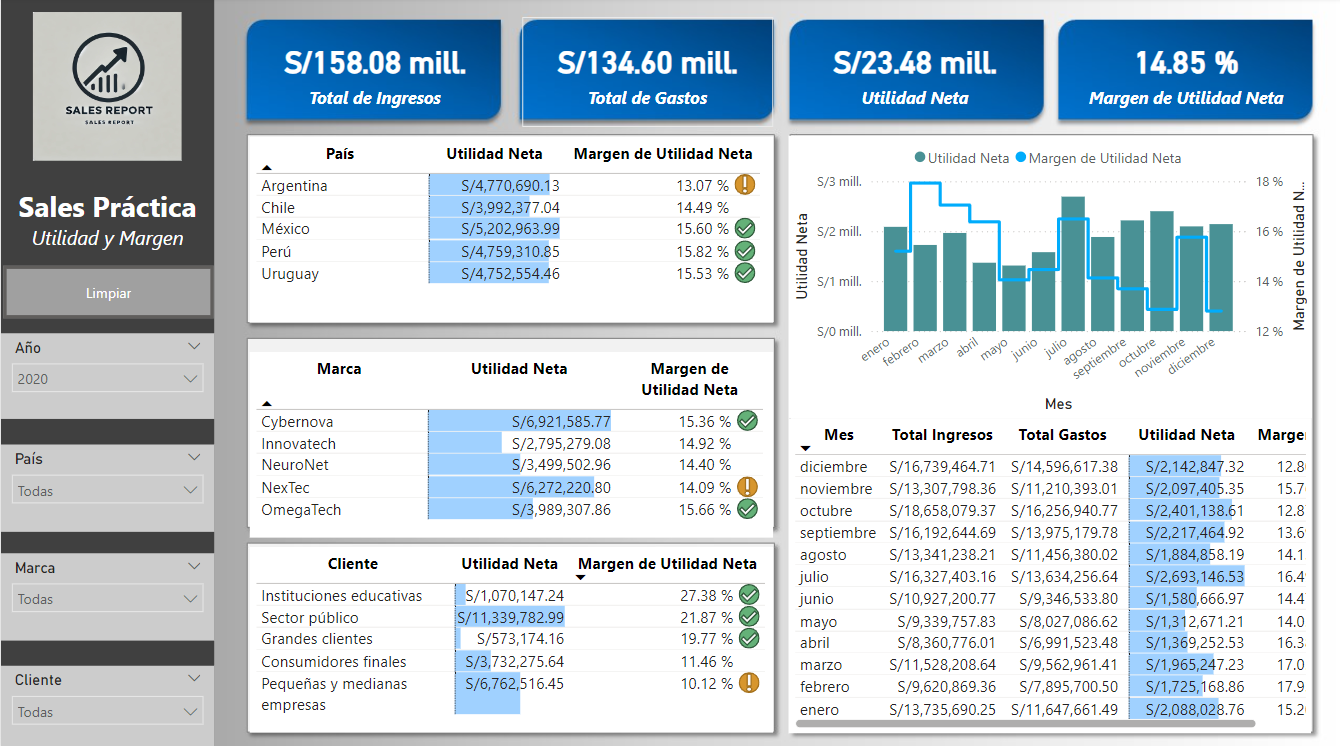

This screenshot's page, from the dashboard's own definition file:
{"tool":"powerbi","page":{"name":"Página 1","canvas":[1280,720],"ordinal":0},"visuals":[{"type":"card","fields":{"Values":["_Medidas.Total de Ingresos"]},"box":[237.4,19.2,238.8,104.3],"z":0},{"type":"card","fields":{"Values":["_Medidas.Total de Gastos"]},"box":[496.7,19.2,238.8,104.3],"z":1000},{"type":"card","fields":{"Values":["_Medidas.Total de Beneficio"]},"box":[750.6,19.2,238.8,104.3],"z":2000},{"type":"card","fields":{"Values":["_Medidas.Margen de utilidad neta"]},"box":[1010,19.2,238.8,104.3],"z":3000},{"type":"tableEx","fields":{"Values":["Consolidado.DimPais.Pais","_Medidas.Utilidad Neta","_Medidas.Margen de Utilidad Neta"]},"box":[237.4,133.1,498.1,177],"z":4000},{"type":"tableEx","fields":{"Values":["Consolidado.DimMarca.Marca","_Medidas.Utilidad Neta","_Medidas.Margen de Utilidad Neta"]},"box":[237.4,337.6,498.1,177],"z":5000},{"type":"tableEx","fields":{"Values":["Consolidado.Cliente","_Medidas.Utilidad Neta","_Medidas.Margen de Utilidad Neta"]},"box":[237.4,524.2,498.1,177],"z":6000},{"type":"lineClusteredColumnComboChart","fields":{"Y":["_Medidas.Utilidad Neta"],"Category":["Consolidado.Fecha.Variación.Jerarquía de fechas.Mes"],"Y2":["_Medidas.Margen de Utilidad Neta"]},"box":[750,132.5,498.8,268.8],"z":7000},{"type":"tableEx","fields":{"Values":["Consolidado.Fecha.Variación.Jerarquía de fechas.Mes","_Medidas.Total de Ingresos","_Medidas.Total de Gastos","_Medidas.Utilidad Neta","_Medidas.Margen de Utilidad Neta"]},"box":[750,401.2,497.5,300],"z":8000},{"type":"image","box":[0,10,202.9,151.4],"z":9000},{"type":"textbox","box":[0,175.7,202.9,80],"z":10000},{"type":"slicer","fields":{"Values":["Consolidado.Fecha.Variación.Jerarquía de fechas.Año"]},"box":[0,320,202.9,81.4],"z":10001},{"type":"slicer","fields":{"Values":["Consolidado.Cliente"]},"box":[0,637.1,202.9,82.9],"z":10002},{"type":"slicer","fields":{"Values":["Consolidado.País"]},"box":[0,425.7,202.9,82.9],"z":10003},{"type":"slicer","fields":{"Values":["Consolidado.Marca"]},"box":[0,530,202.9,82.9],"z":10004},{"type":"actionButton","box":[2.9,255.7,200,50],"z":10005}]}

Visuals, with their boxes in screenshot pixels (x1, y1, x2, y2), scaled from the page's 1280x720 canvas onto the 1340x746 screenshot:
card - _Medidas.Total de Ingresos: left=249, top=20, right=499, bottom=128
card - _Medidas.Total de Gastos: left=520, top=20, right=770, bottom=128
card - _Medidas.Total de Beneficio: left=786, top=20, right=1036, bottom=128
card - _Medidas.Margen de utilidad neta: left=1057, top=20, right=1307, bottom=128
tableEx - Consolidado.DimPais.Pais x _Medidas.Utilidad Neta: left=249, top=138, right=770, bottom=321
tableEx - Consolidado.DimMarca.Marca x _Medidas.Utilidad Neta: left=249, top=350, right=770, bottom=533
tableEx - Consolidado.Cliente x _Medidas.Utilidad Neta: left=249, top=543, right=770, bottom=727
lineClusteredColumnComboChart - _Medidas.Utilidad Neta x Consolidado.Fecha.Variación.Jerarquía de fechas.Mes: left=785, top=137, right=1307, bottom=416
tableEx - Consolidado.Fecha.Variación.Jerarquía de fechas.Mes x _Medidas.Total de Ingresos: left=785, top=416, right=1306, bottom=727
image: left=0, top=10, right=212, bottom=167
textbox: left=0, top=182, right=212, bottom=265
slicer - Consolidado.Fecha.Variación.Jerarquía de fechas.Año: left=0, top=332, right=212, bottom=416
slicer - Consolidado.Cliente: left=0, top=660, right=212, bottom=745
slicer - Consolidado.País: left=0, top=441, right=212, bottom=527
slicer - Consolidado.Marca: left=0, top=549, right=212, bottom=635
actionButton: left=3, top=265, right=212, bottom=317
